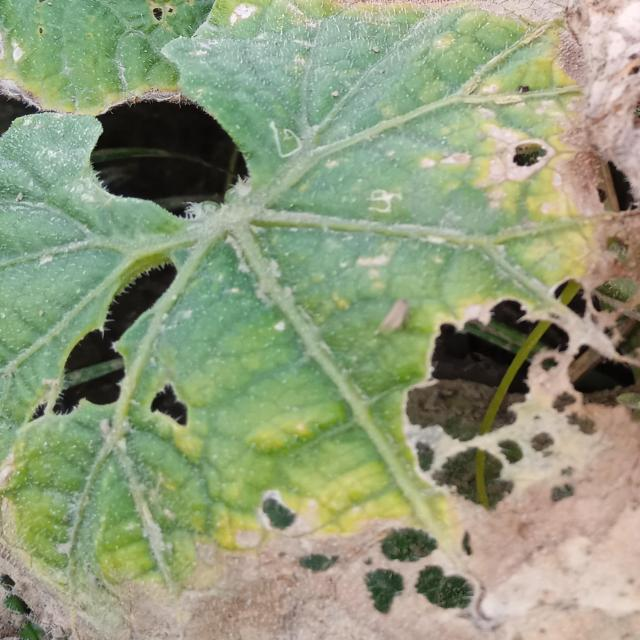cucumber_anthracnose: (8, 13, 636, 625)
